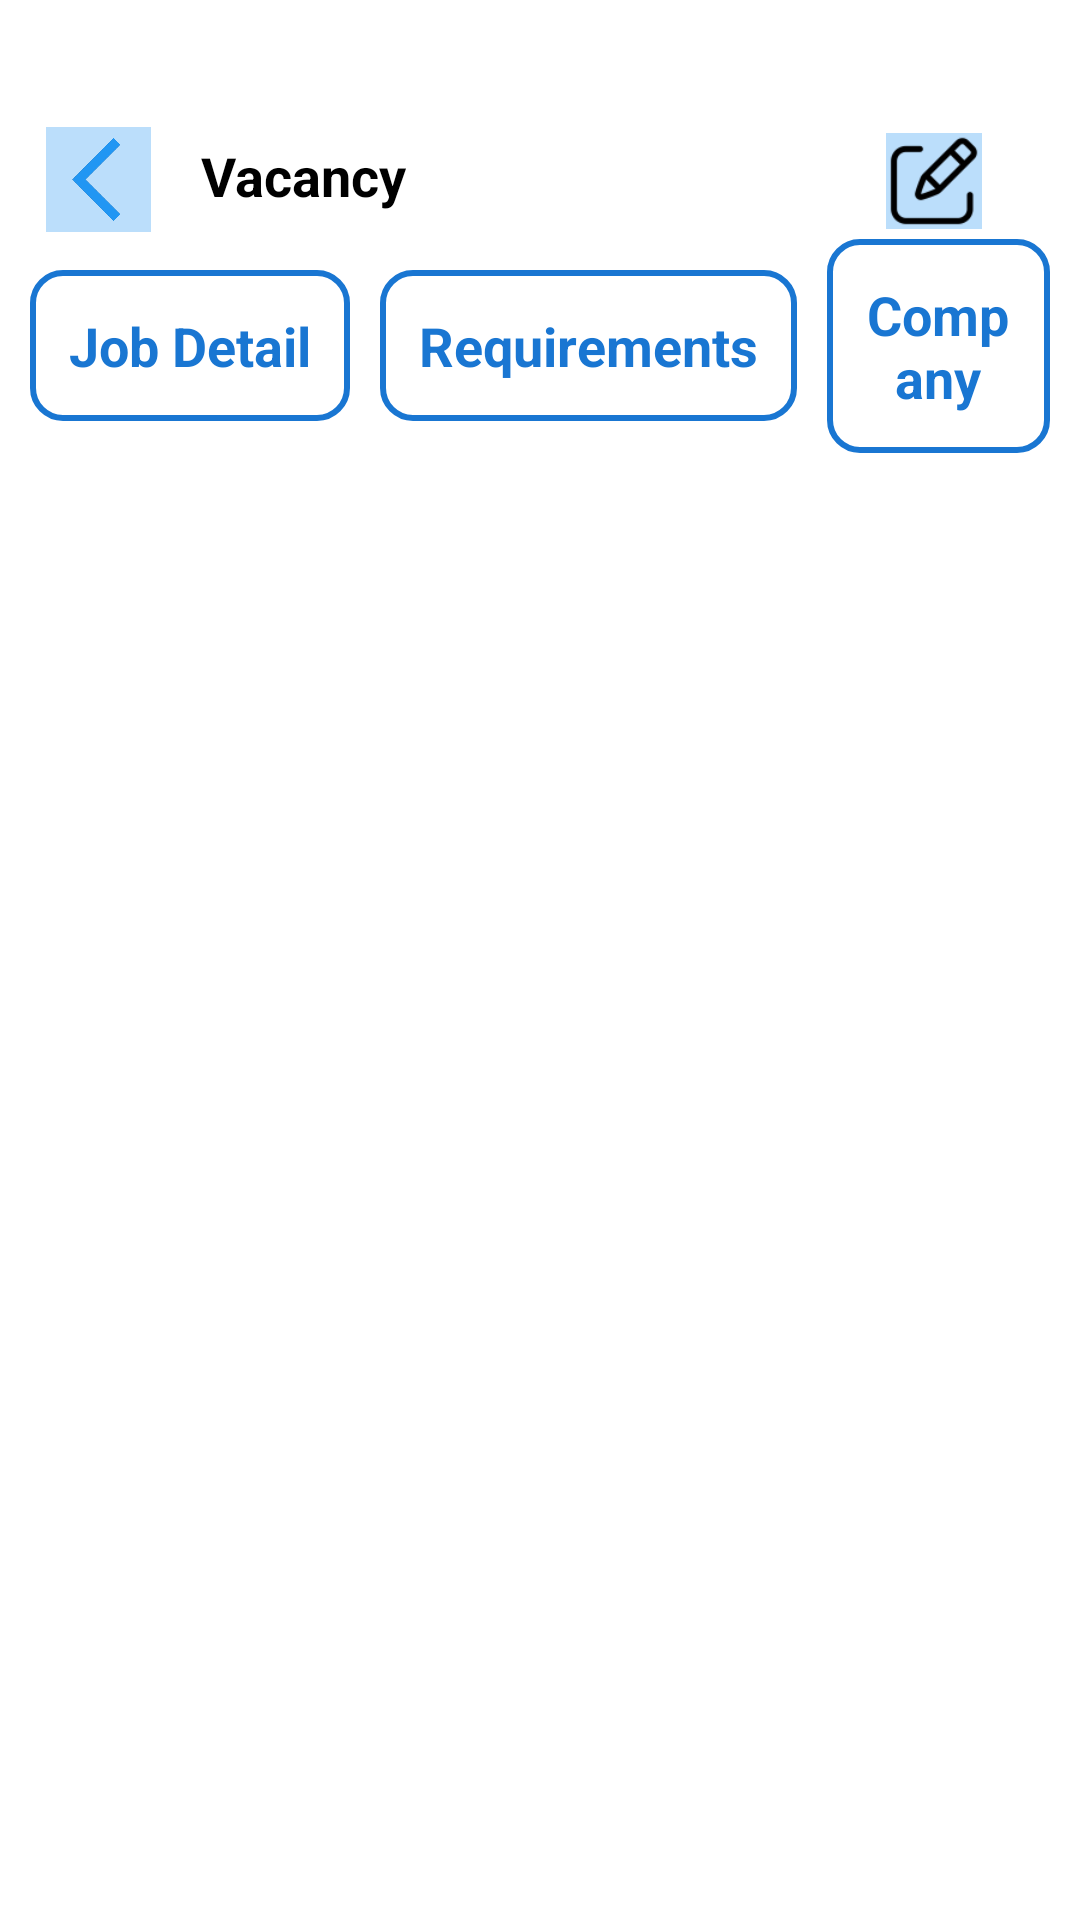

Point at icon controls on the screen. Image size 1080 × 1920, points as (x=x, y=y).
comeback: (x=98, y=179)
edit: (x=934, y=181)
